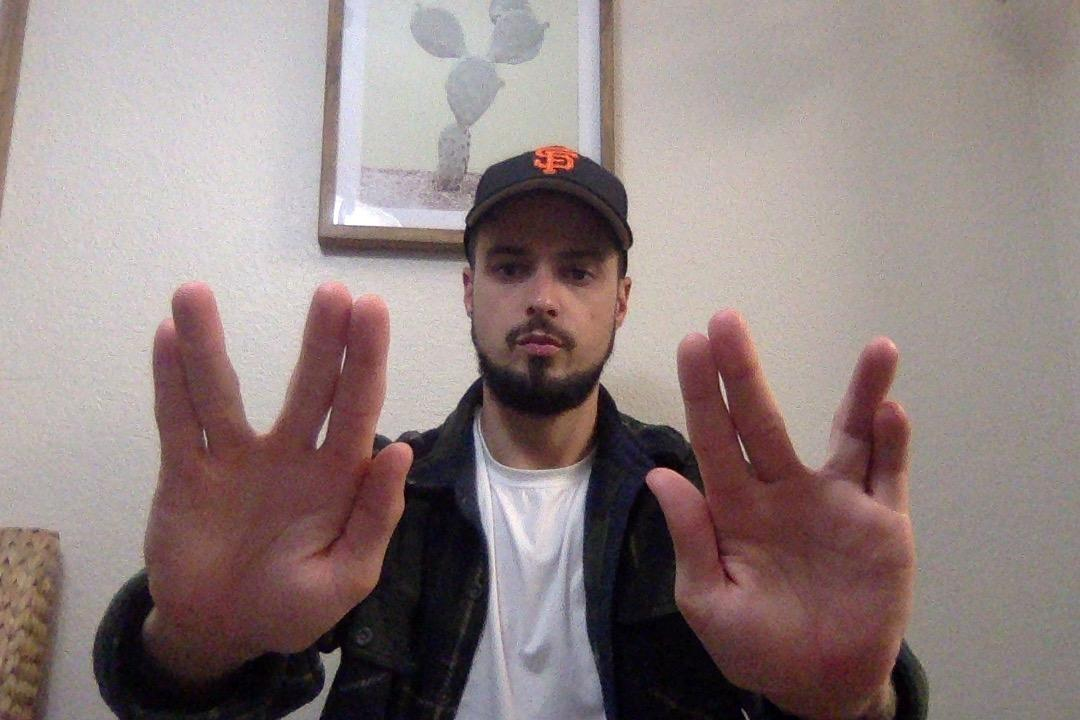Live-Long-Prosper: (640, 297, 931, 720), (130, 278, 418, 673)
